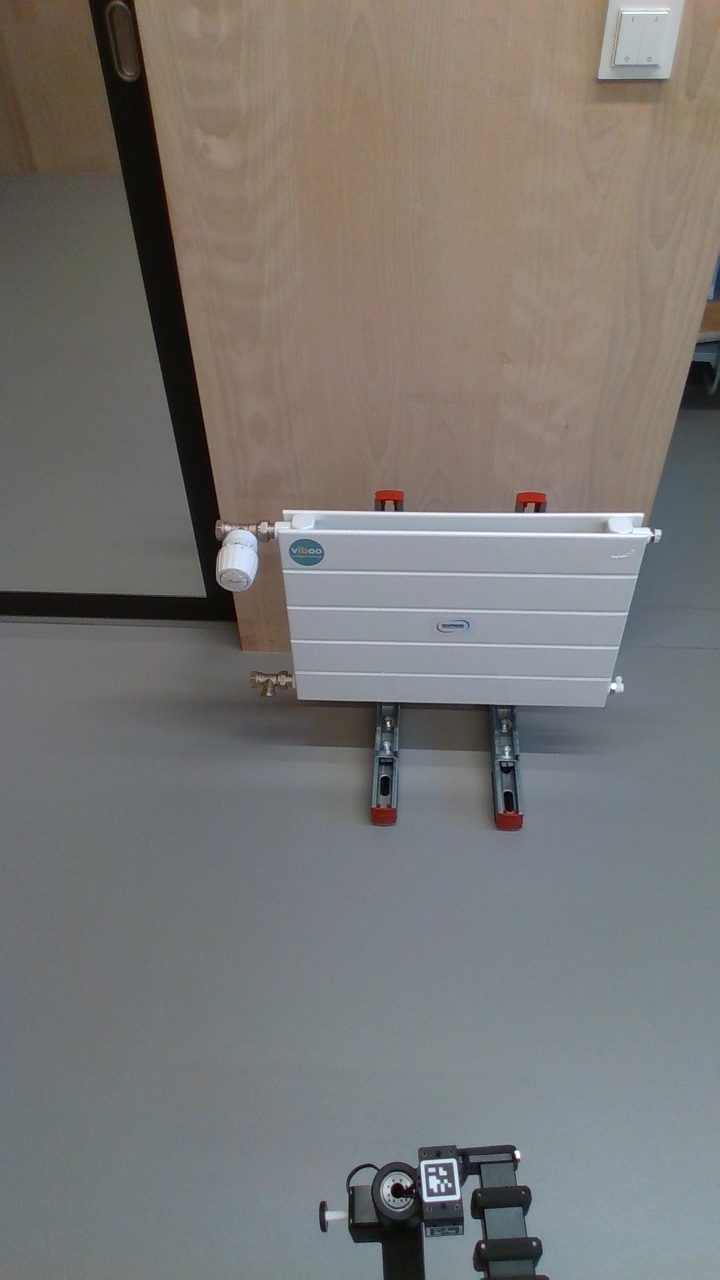Knob_Radiator: (209, 527, 264, 602)
Light_Switch: (603, 4, 677, 77)
Radiator: (268, 502, 646, 714)
